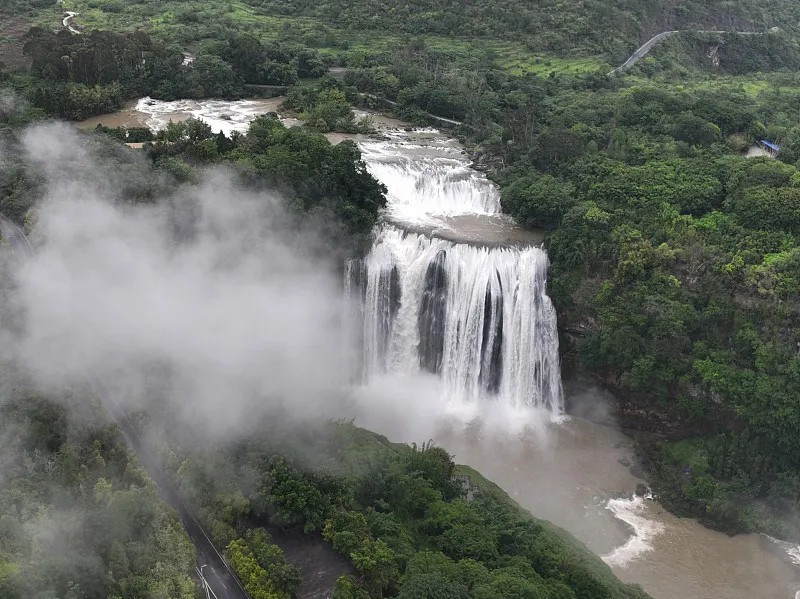Huangguoshu: (358, 155, 567, 419)
